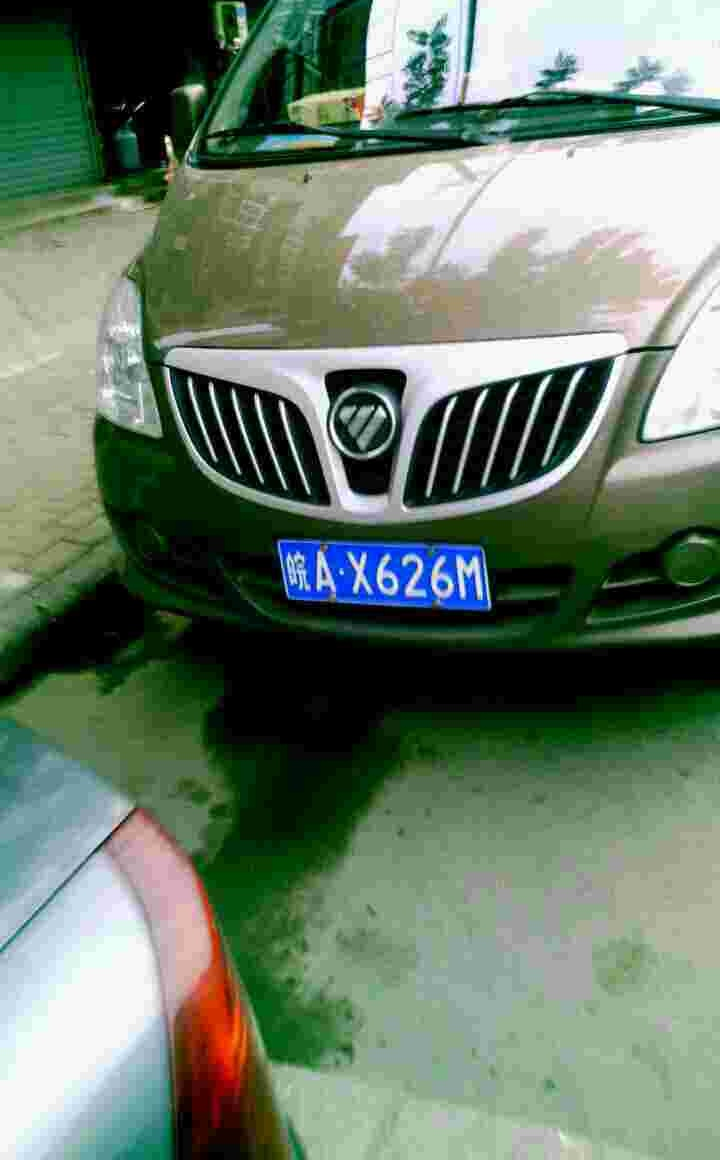license_plate: (263, 536, 512, 614)
